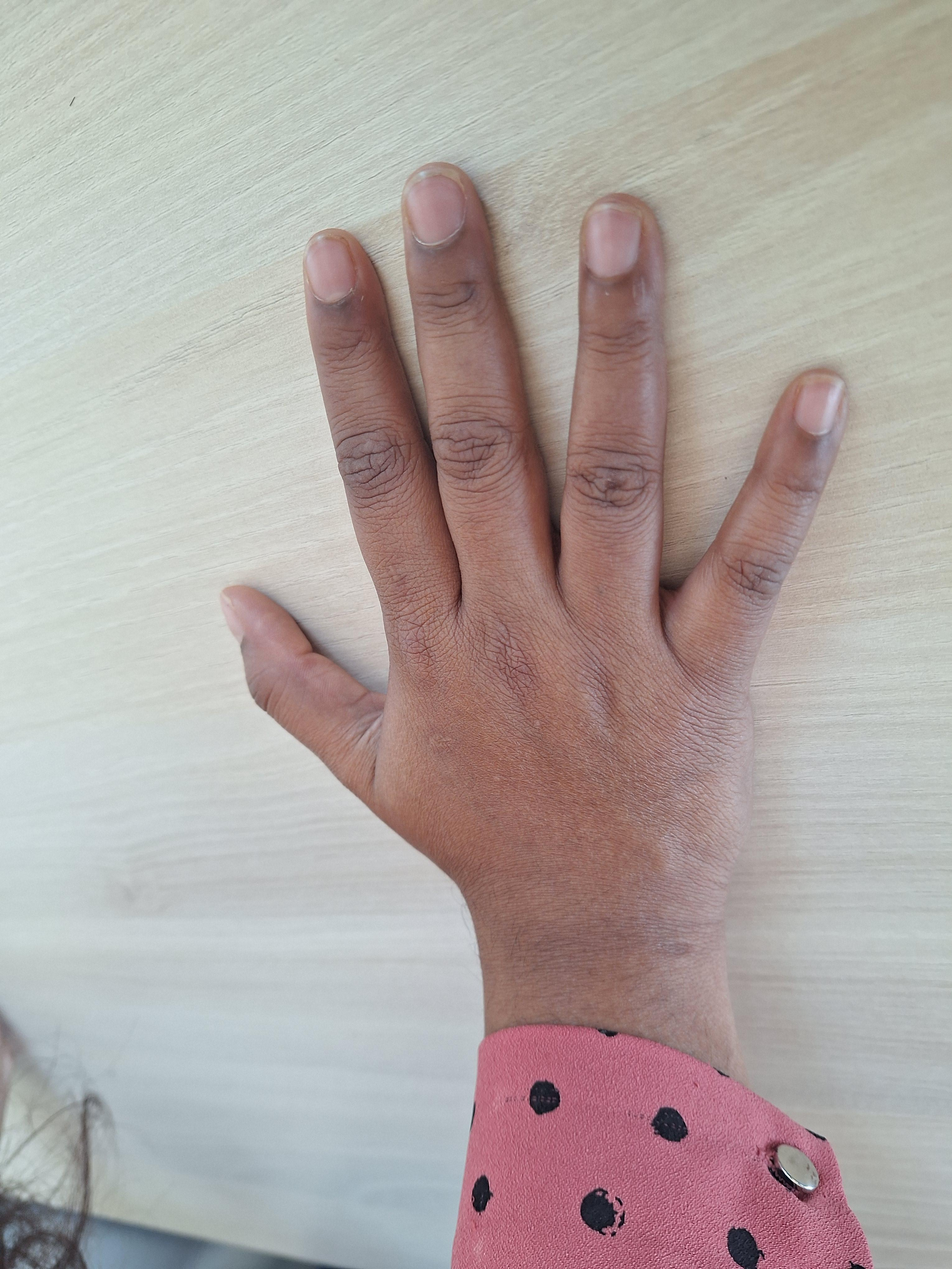Fingernail: (404, 168, 465, 245), (585, 203, 644, 278), (303, 235, 356, 303), (793, 374, 845, 436), (220, 592, 245, 646)
